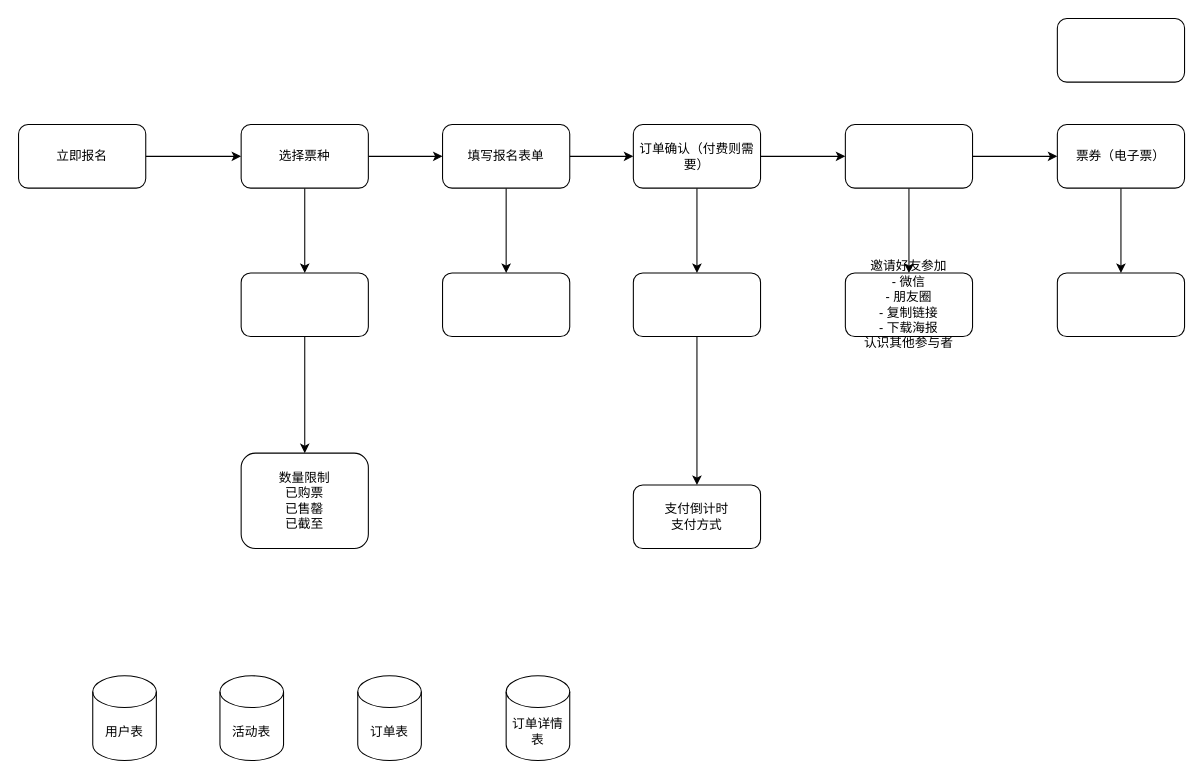
Some shapes in this 1203 by 779 pixel diagram are drawn without their labels. The centre of each missing label's shape, as x and y in pixels:
"发送短信" belongs at point 1120,49.
"姓名 电话 状态：已付款 票号 票种：免费票 票价：免费 实付金额：免费 有效期 活动说明" belongs at point 1120,304.
"姓名 电话 邮箱 微信号" belongs at point 505,304.
"报名成功" belongs at point 908,155.
"支付方式 优惠码" belongs at point 696,304.
"票种 数量 合计" belongs at point 304,304.
